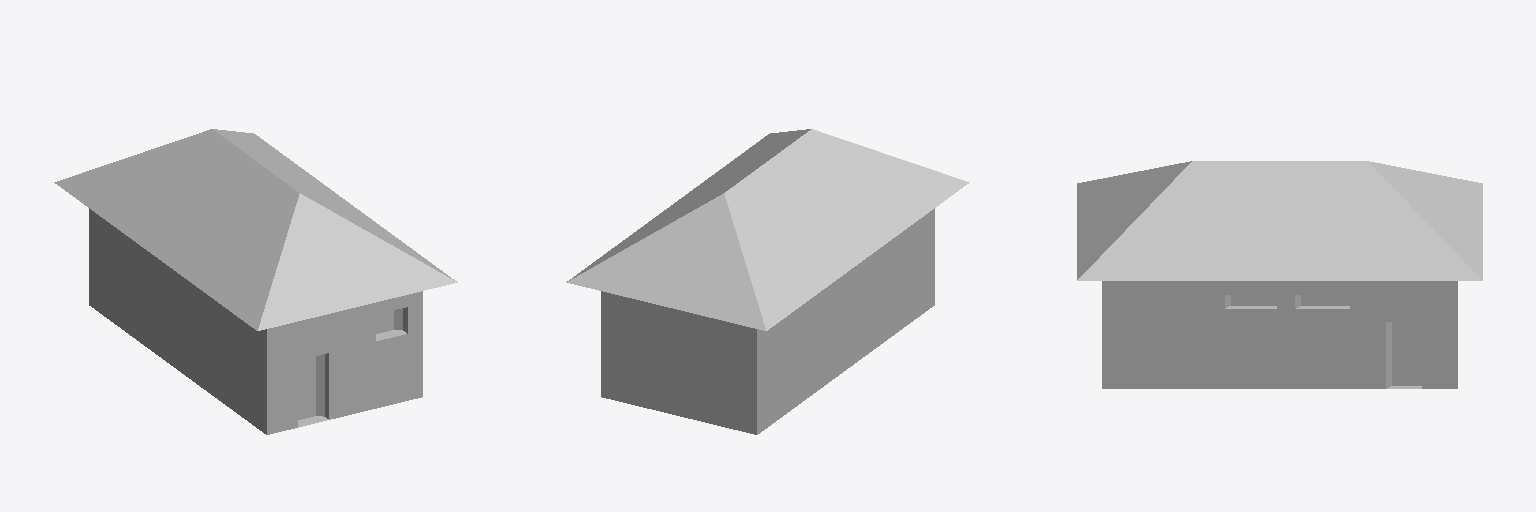
File: casa1.obj
The picture shows the model from 3 angles: view 1: azimuth 30°, elevation 25°; view 2: azimuth 150°, elevation 25°; view 3: azimuth 270°, elevation 25°; orthographic projection.
Bounding box in the file's own units: 2.56 × 2.32 × 4.5.